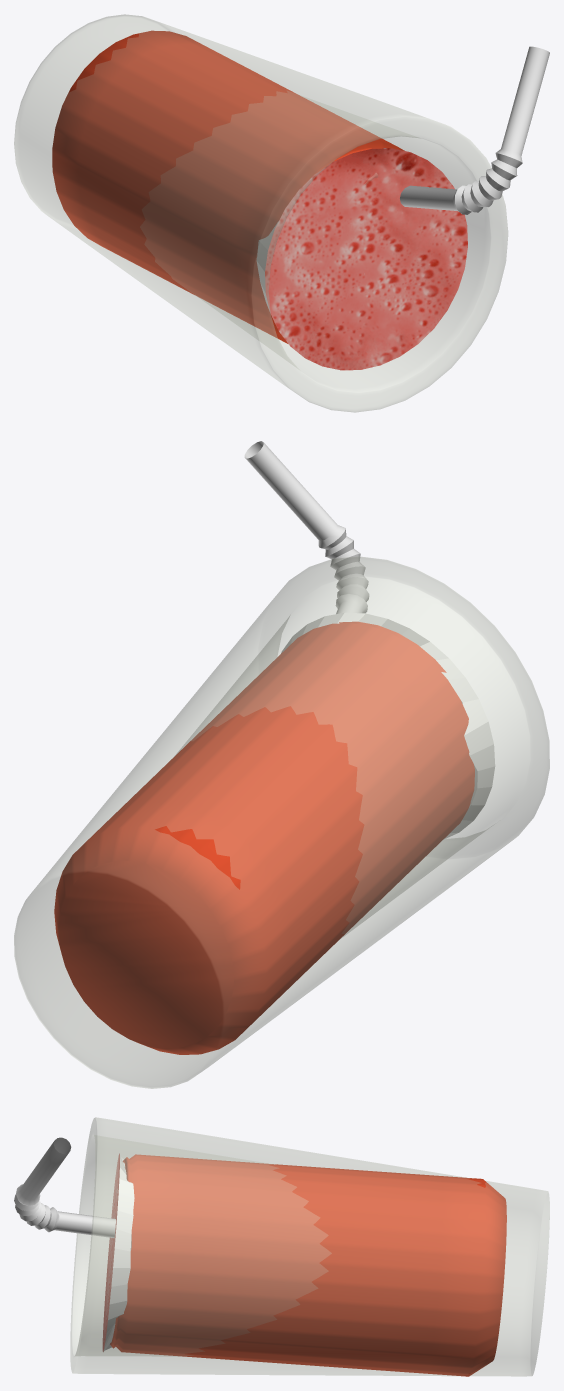
File: straw.glb
3 views of the same model, one above another, from view 1: azimuth 30°, elevation 25°; view 2: azimuth 150°, elevation 25°; view 3: azimuth 270°, elevation 25° (orthographic). The views are drawn at different scales.
Parts seen in each view (by area): view 1: Vert.002, Cylinder, coffee.001, Vert.001; view 2: Vert.002, Cylinder, Vert.001, coffee.001; view 3: Vert.002, Cylinder, Vert.001, coffee.001.
Boxes of the visible parts, <box> form: Vert.002: <box>14,14,507,412</box>; Cylinder: <box>52,30,404,343</box>; coffee.001: <box>256,148,467,370</box>; Vert.001: <box>400,46,549,214</box>; Vert.002: <box>14,556,549,1088</box>; Cylinder: <box>54,621,474,1054</box>; Vert.001: <box>244,441,369,613</box>; coffee.001: <box>281,612,495,839</box>; Vert.002: <box>70,1117,549,1376</box>; Cylinder: <box>110,1154,506,1376</box>; Vert.001: <box>14,1137,115,1237</box>; coffee.001: <box>102,1153,134,1351</box>.
Size of the model in its own units: 12.15 by 13.9 by 22.92.
5 materials, 1 textured.
